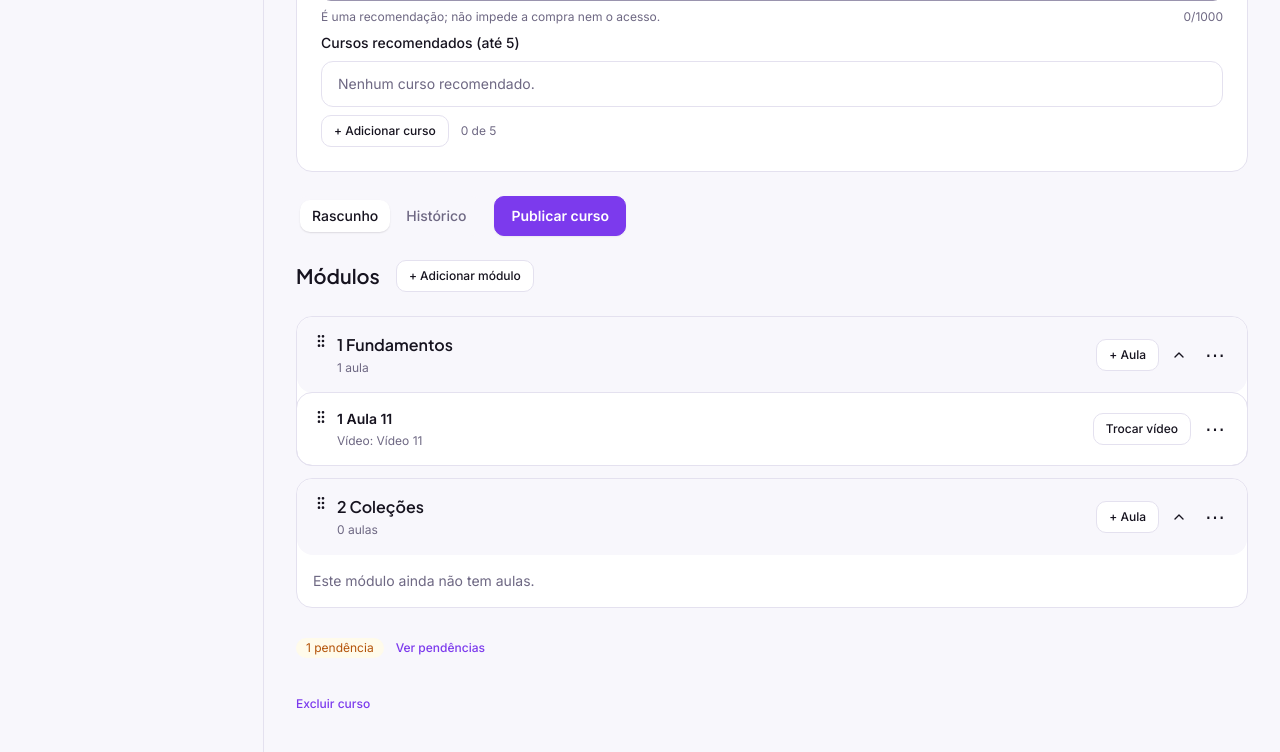
Test: authoring editor against Figma › opens one move submenu listing the other modules with cancel
This screenshot has width=1280, height=752.
(page scrolled)
Click the button named "Ações de Aula 11".
click(1215, 429)  # box [1199,413,1231,445]
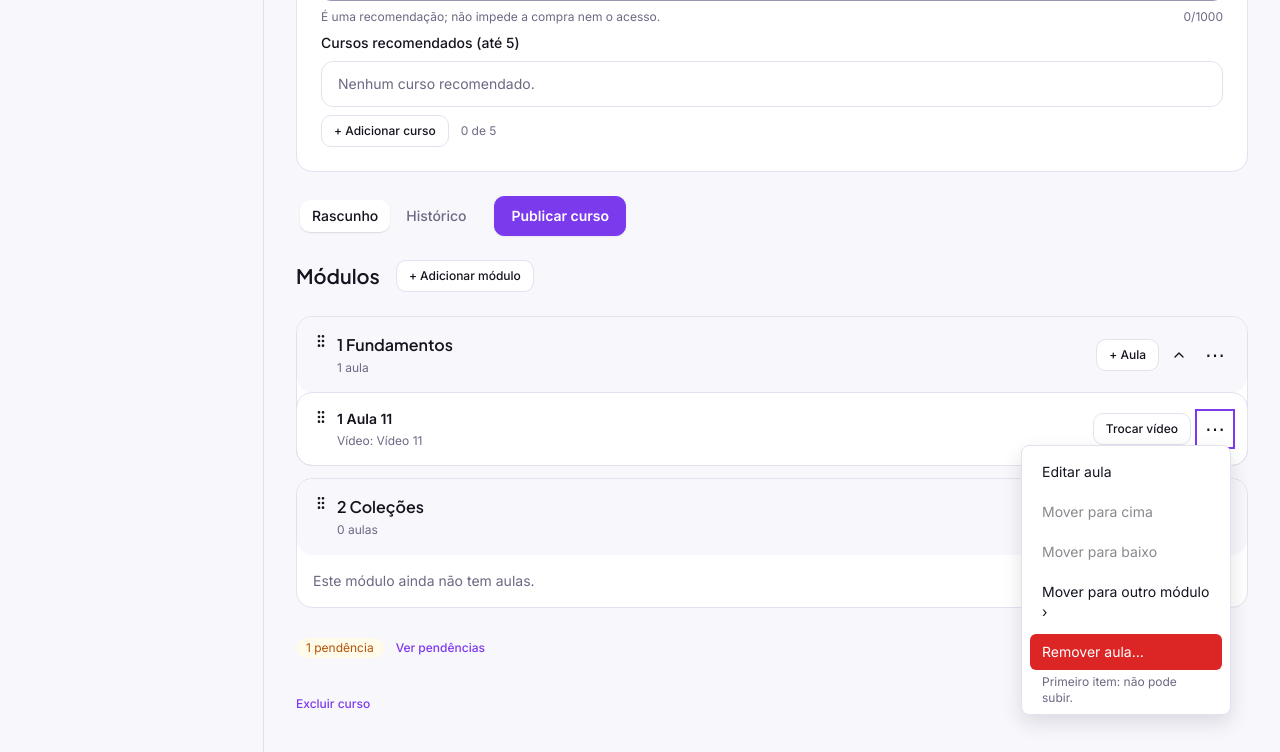
Check: the button "Mover para Coleções" is not shown
Click the button "Mover para outro módulo ›".
click(1126, 602)  # box [1030,574,1222,630]
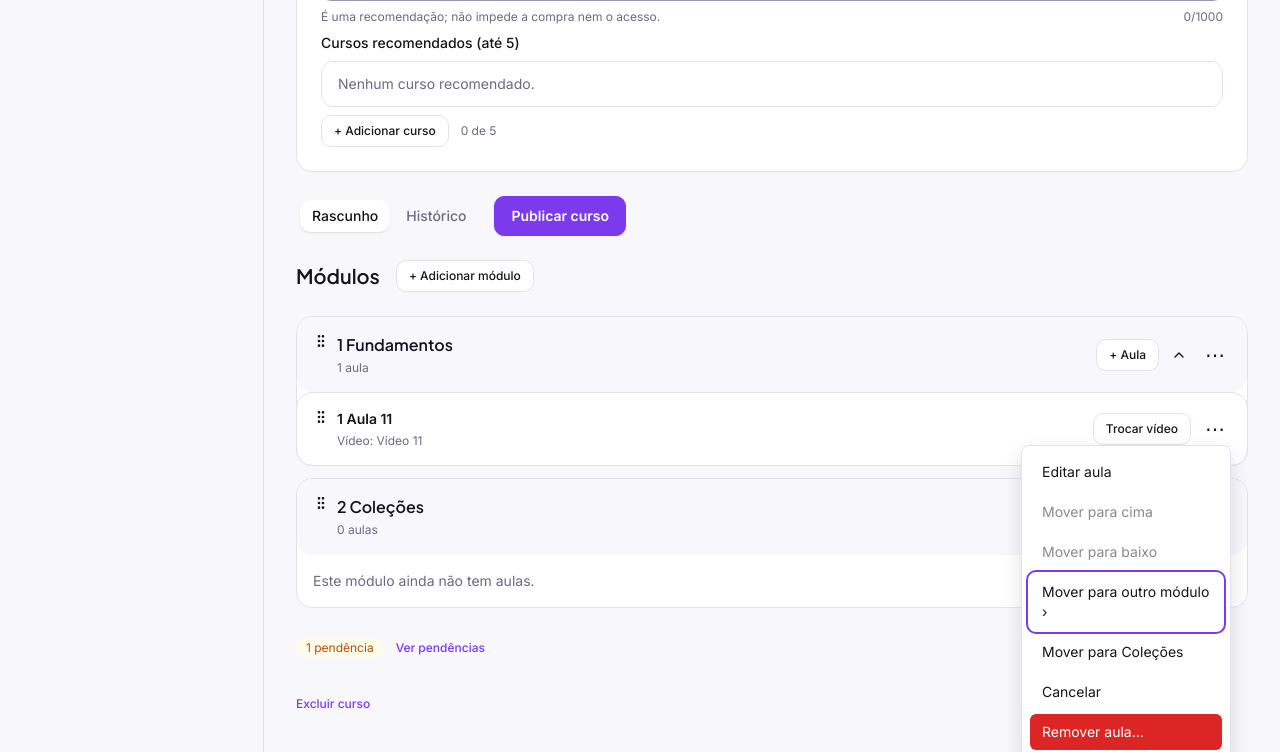
Check: the button "Mover para Coleções" is shown, box [1030,634,1222,670]
Click the button "Cancelar".
click(1126, 692)  # box [1030,674,1222,710]
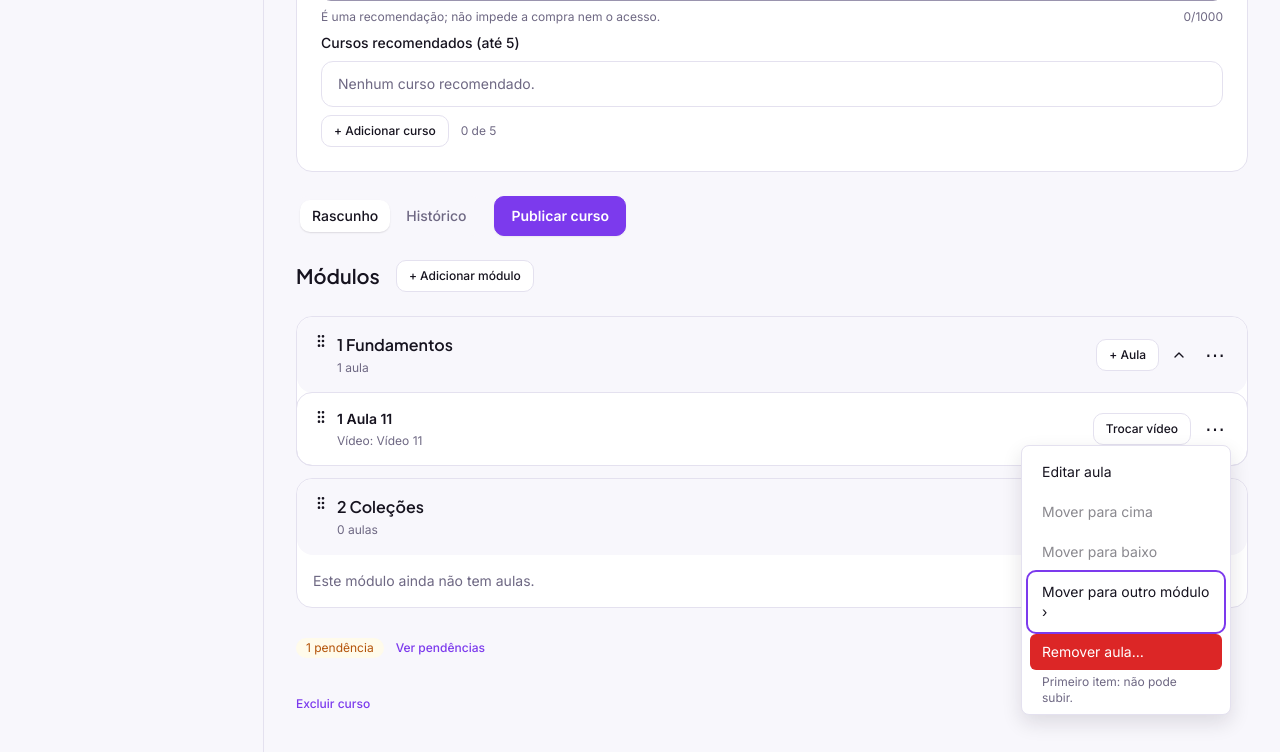
Check: the button "Mover para outro módulo ›" is shown, box [1030,574,1222,630]
Check: the button "Mover para Coleções" is gone
